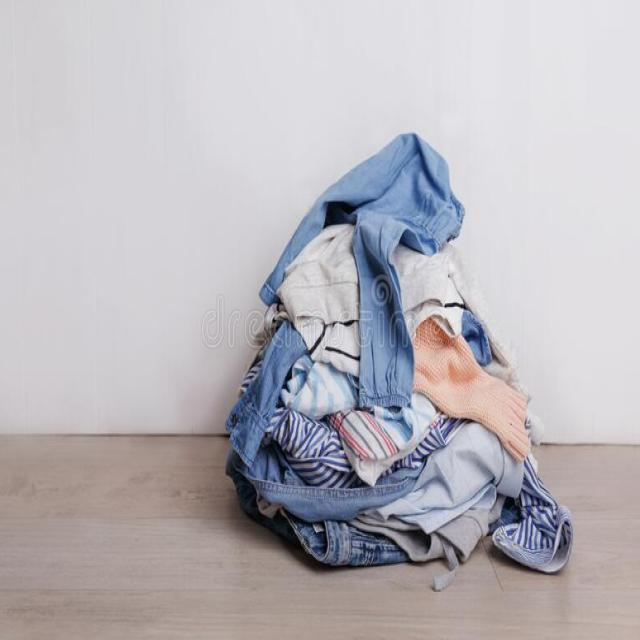clothes: (228, 121, 590, 601)
